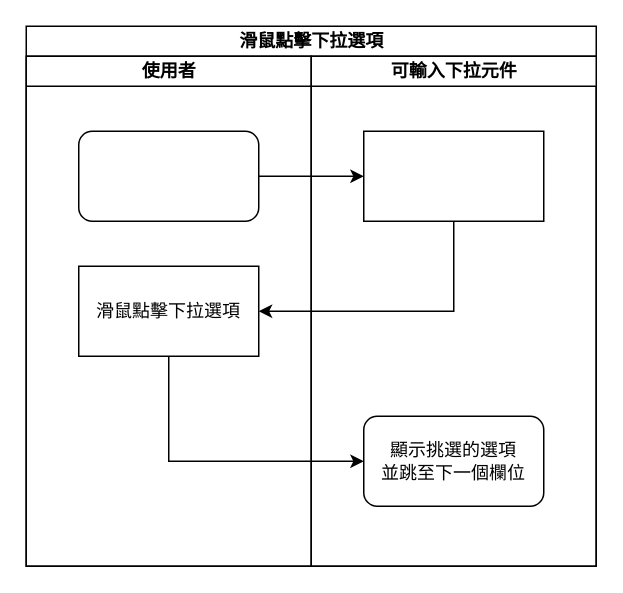
Some shapes in this 623 by 593 pixel diagram are drawn without their labels. The shapes that lost their labels are listed below. From the top down, each one's centre as x and y in pixels, then its label:
At [168,175]: "在編輯狀態下 點擊下拉按鈕".
At [453,175]: "顯示下拉選項".
